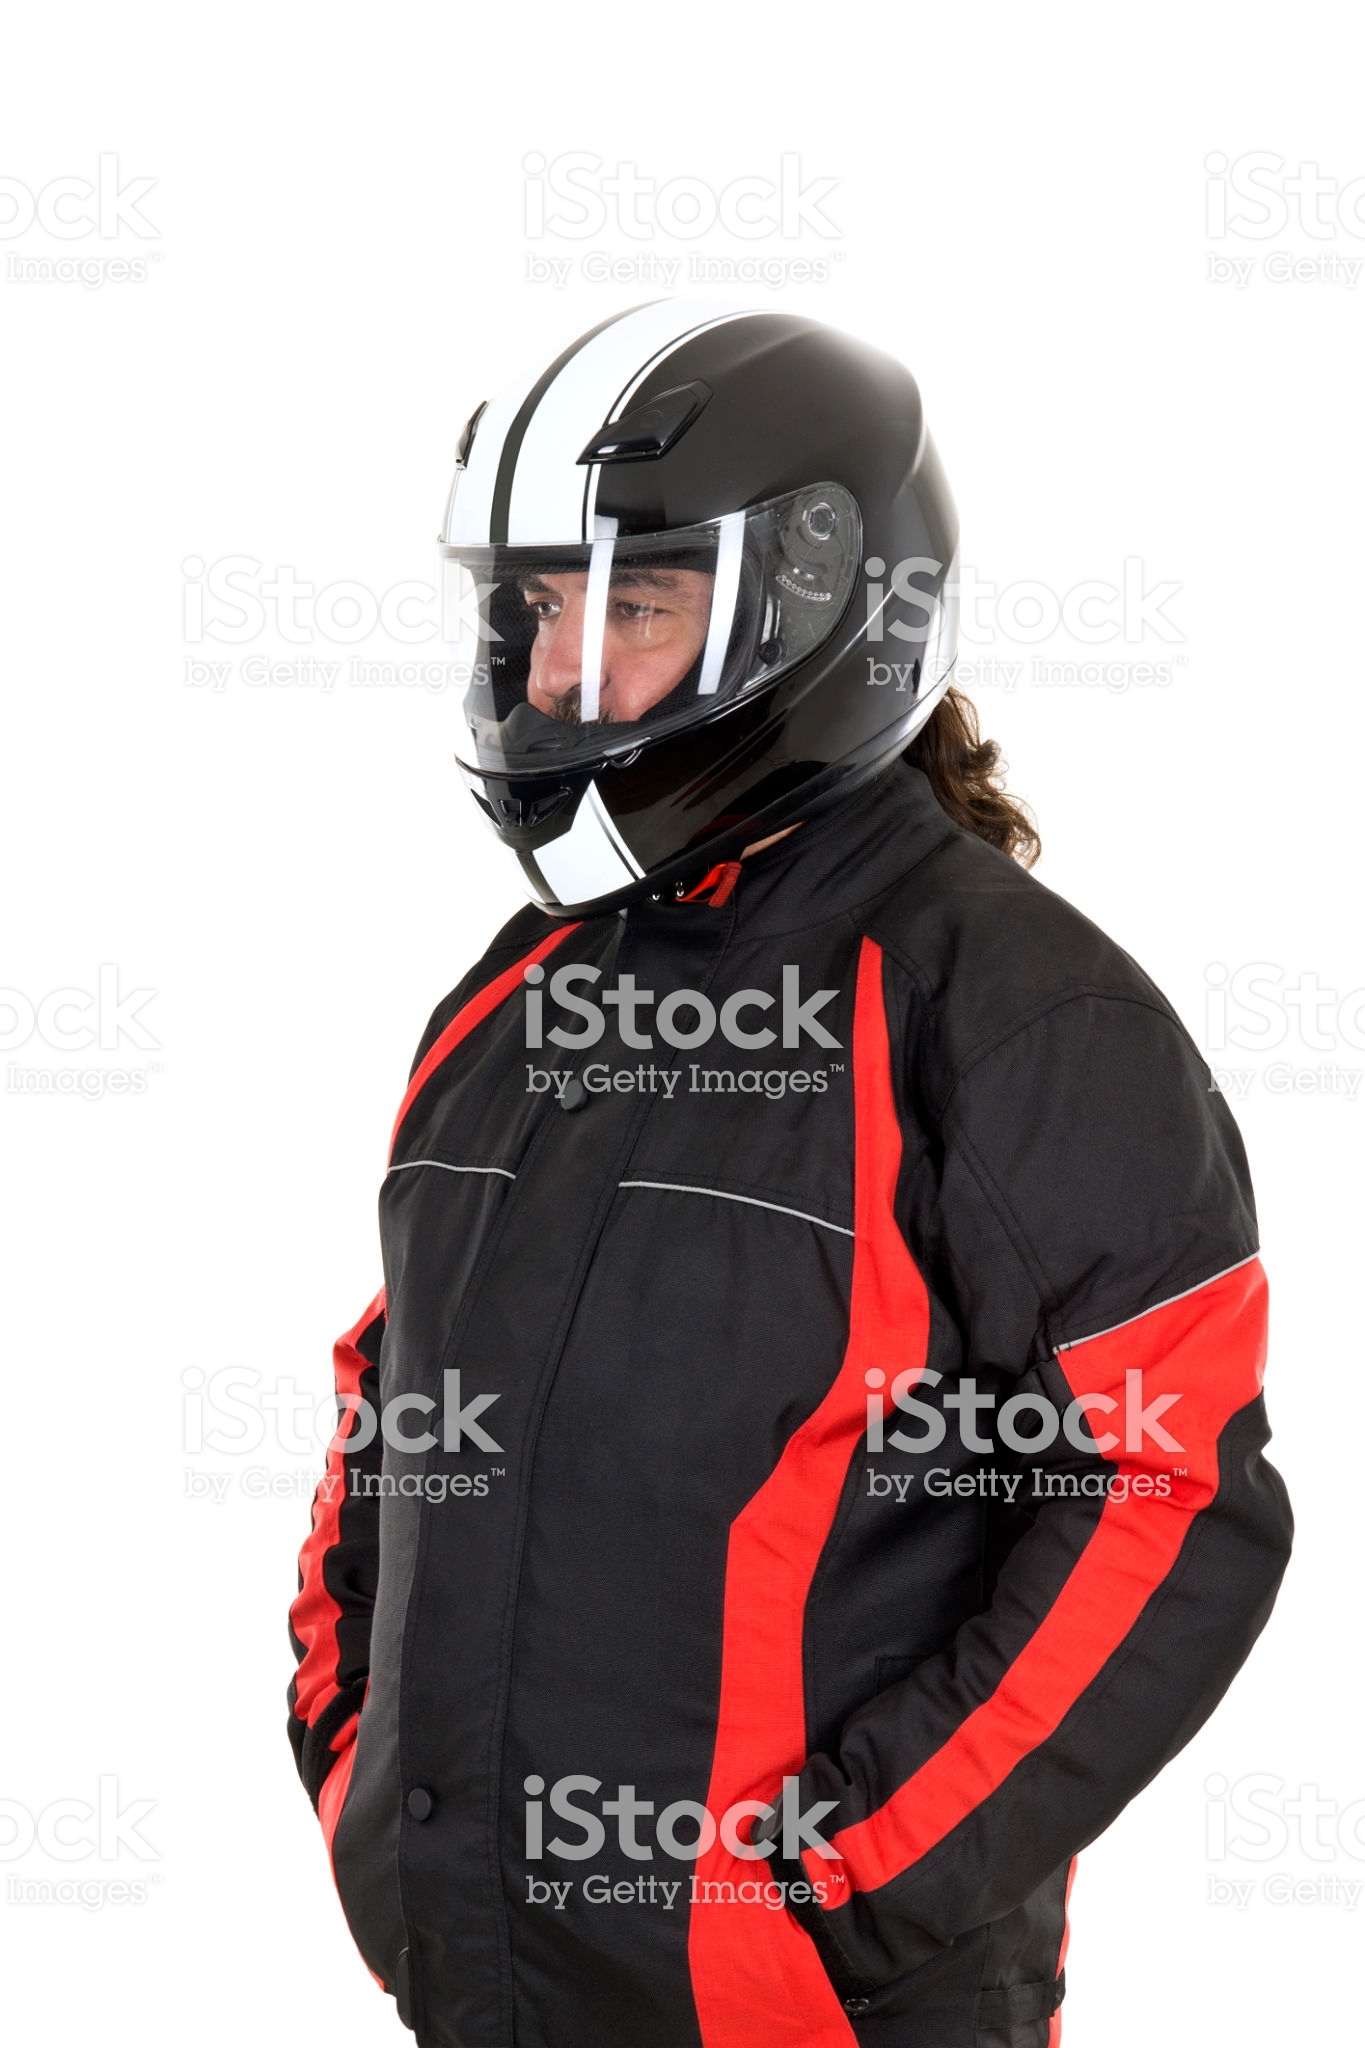helmet: (385, 273, 989, 856)
